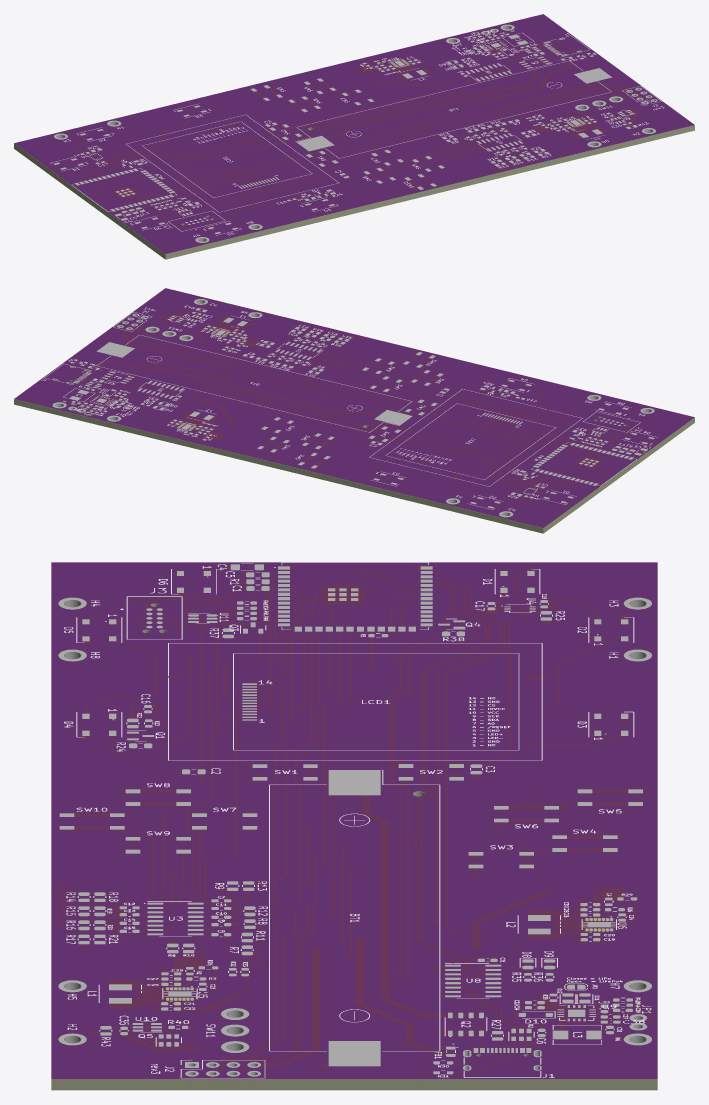
File: balccon-cyberdeck-0o27-bcd-0o27.glb
The picture shows the model from 3 angles, top to bottom: view 1: azimuth 30°, elevation 25°; view 2: azimuth 150°, elevation 25°; view 3: azimuth 270°, elevation 25°; orthographic projection. The views are drawn at different scales.
Visible parts, largest first — view 1: =>[0:1:1:7], =>[0:1:1:9], =>[0:1:1:2], =>[0:1:1:5]; view 2: =>[0:1:1:7], =>[0:1:1:9], =>[0:1:1:2], =>[0:1:1:5]; view 3: =>[0:1:1:7], =>[0:1:1:9], =>[0:1:1:2], =>[0:1:1:5].
Part boxes in pixels (x1,y1,x2,y2): =>[0:1:1:7]: [14, 14, 694, 253]; =>[0:1:1:9]: [14, 15, 694, 259]; =>[0:1:1:2]: [53, 24, 657, 242]; =>[0:1:1:5]: [50, 30, 664, 236]; =>[0:1:1:7]: [14, 288, 694, 527]; =>[0:1:1:9]: [14, 289, 694, 533]; =>[0:1:1:2]: [52, 299, 654, 517]; =>[0:1:1:5]: [41, 303, 657, 510]; =>[0:1:1:7]: [51, 562, 657, 1079]; =>[0:1:1:9]: [51, 563, 657, 1090]; =>[0:1:1:2]: [55, 564, 651, 1076]; =>[0:1:1:5]: [64, 562, 651, 1078].
Bounding box in the file's own units: 0.15 × 0.00161 × 0.0744.
4 materials, 4 textured.
